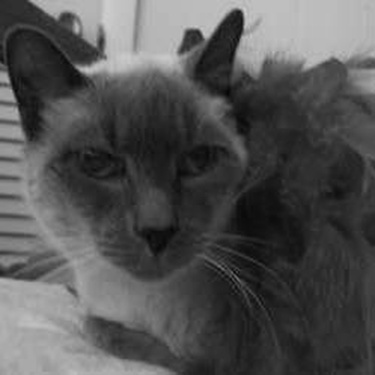cat: (4, 10, 369, 370), (172, 26, 373, 265)
